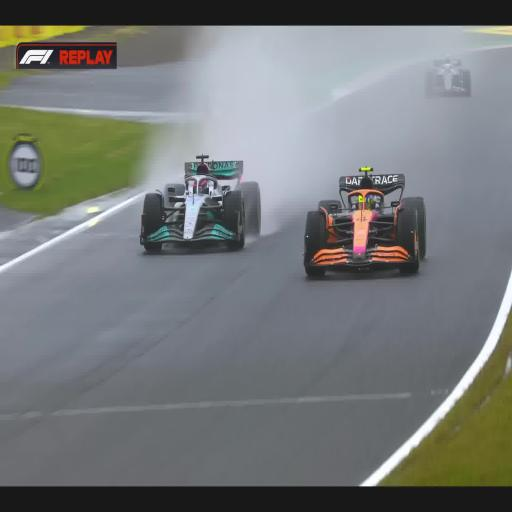f1_car: (304, 167, 425, 276), (140, 155, 260, 252), (425, 57, 471, 97)
